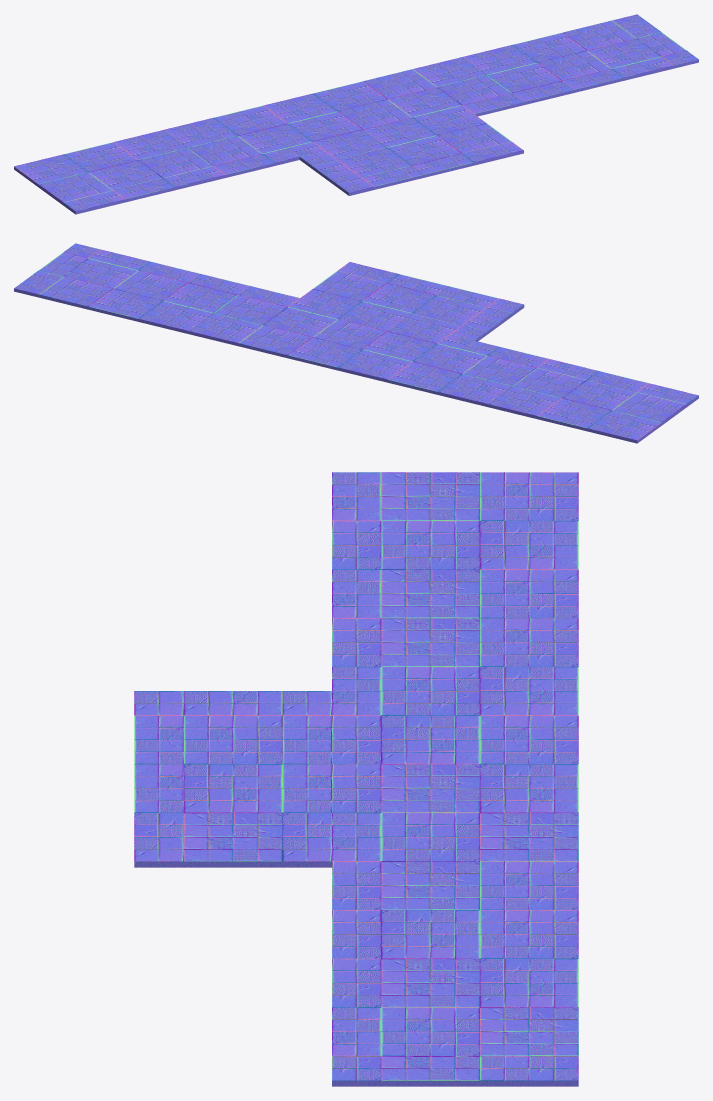
File: b_zx_zhuankuai04.FBX
3 views of the same model, one above another, from view 1: azimuth 30°, elevation 25°; view 2: azimuth 150°, elevation 25°; view 3: azimuth 270°, elevation 25° (orthographic). The views are drawn at different scales.
Visible parts, largest first — view 1: b_zx_zhuankuai04; view 2: b_zx_zhuankuai04; view 3: b_zx_zhuankuai04.
Part boxes in pixels (x1,y1,x2,y2): b_zx_zhuankuai04: (14,14,698,214); b_zx_zhuankuai04: (14,243,698,443); b_zx_zhuankuai04: (134,472,578,1086).
Bounding box in the file's own units: 62.49 × 0.296 × 19.29.
